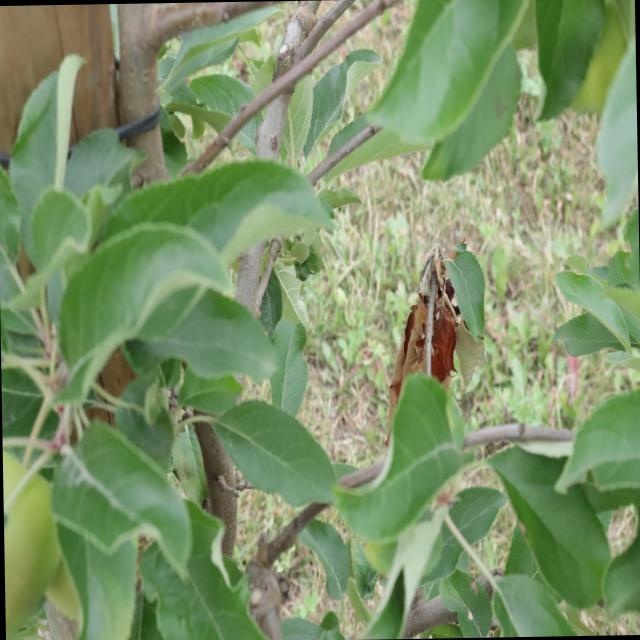-FireBlight-: (395, 232, 466, 384)
